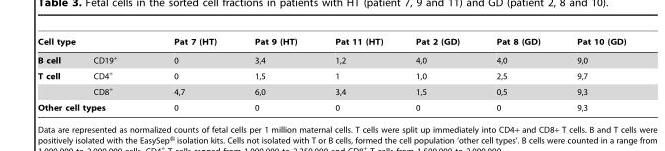table: (37, 37, 625, 111)
table column: (144, 37, 235, 111), (315, 37, 398, 111), (477, 37, 558, 111), (235, 37, 315, 111), (398, 37, 477, 111), (76, 37, 144, 111), (558, 37, 625, 111), (37, 37, 76, 111)
table column header: (37, 37, 625, 66)
table row: (37, 49, 625, 66), (37, 82, 625, 99), (37, 66, 625, 82), (37, 37, 625, 49), (37, 99, 625, 111)
table spanning cell: (144, 37, 235, 66), (315, 37, 398, 66), (477, 37, 558, 66), (235, 37, 315, 66), (398, 37, 477, 66), (558, 37, 625, 66), (37, 66, 76, 99), (37, 37, 144, 49), (37, 99, 144, 111)
